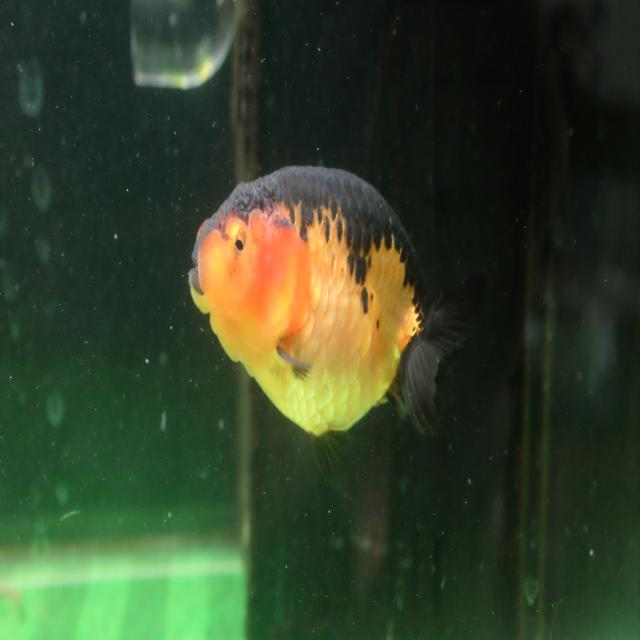Goldfish: (188, 164, 468, 482)
